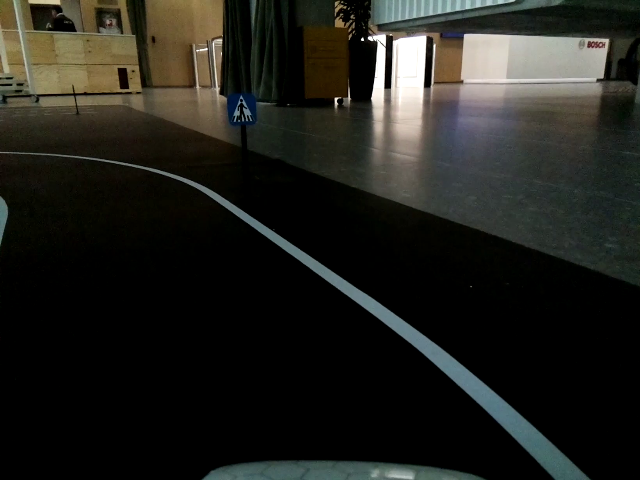pedestrians: (227, 94, 257, 124)
